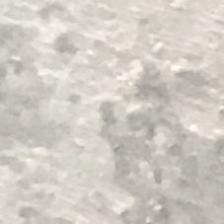Non_Crack: (13, 29, 208, 197)
